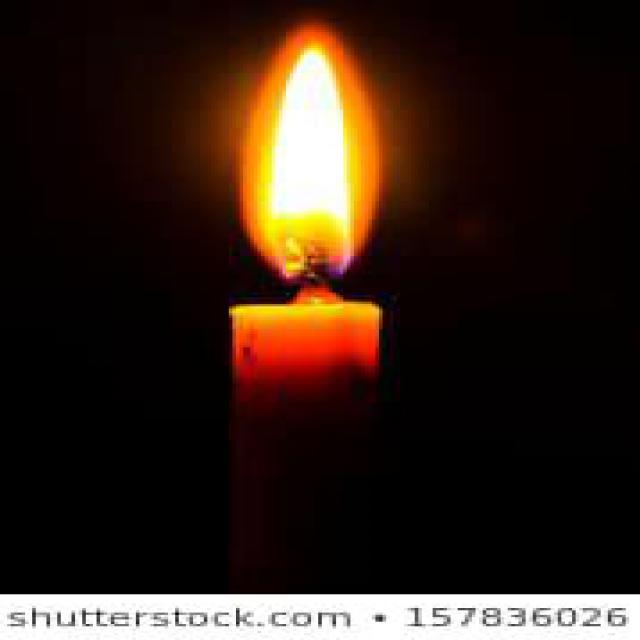Fire: (241, 30, 381, 282)
